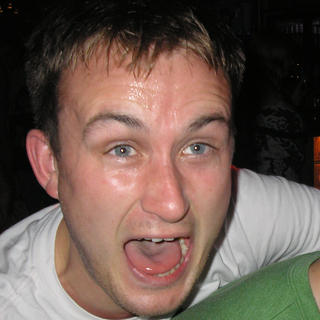eye: (98, 139, 145, 164), (175, 138, 220, 163)
